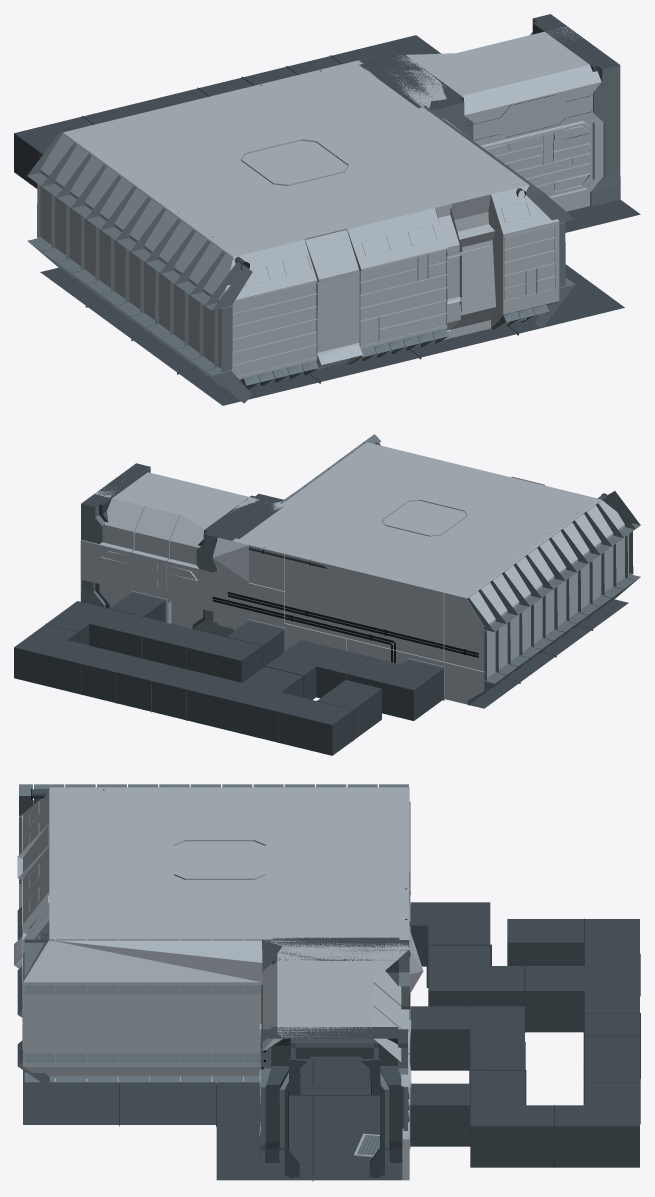
The picture shows the model from 3 angles, top to bottom: view 1: azimuth 30°, elevation 25°; view 2: azimuth 150°, elevation 25°; view 3: azimuth 270°, elevation 25°; orthographic projection. The views are drawn at different scales.
Visible parts, largest first — view 1: Plane.007, Main.001, Cube.079, ROOMKEY_1, ROOMKEY_1.001, ROOMKEY_1.002, Cube.172, Cube.173, Cube.158, Cube.171, Cube.101; view 2: Plane.007, Cube.079, ROOMKEY_1, Main.001, ROOMKEY_1.001, ROOMKEY_1.002, Cube.123; view 3: Plane.007, Cube.079, Main.001, ROOMKEY_1, ROOMKEY_1.001, ROOMKEY_1.002, Cube.158.
Part boxes in pixels (x1,y1,x2,y2): Plane.007: (40, 26, 603, 380); Main.001: (40, 199, 640, 405); Cube.079: (14, 35, 440, 188); ROOMKEY_1: (530, 14, 620, 206); ROOMKEY_1.001: (377, 51, 473, 140); ROOMKEY_1.002: (359, 56, 446, 119); Cube.172: (214, 306, 232, 372); Cube.173: (205, 262, 252, 310); Cube.158: (526, 181, 575, 223); Cube.171: (205, 368, 252, 403); Cube.101: (316, 344, 363, 369); Plane.007: (80, 442, 628, 704); Cube.079: (14, 592, 443, 755); ROOMKEY_1: (81, 463, 150, 608); Main.001: (468, 599, 628, 708); ROOMKEY_1.001: (192, 494, 272, 634); ROOMKEY_1.002: (217, 497, 283, 636); Cube.123: (467, 589, 505, 632); Plane.007: (23, 787, 423, 1180); Cube.079: (410, 902, 640, 1167); Main.001: (23, 1061, 402, 1181); ROOMKEY_1: (260, 1027, 407, 1180); ROOMKEY_1.001: (262, 949, 409, 1095); ROOMKEY_1.002: (262, 937, 410, 1090); Cube.158: (24, 939, 54, 994).
Bounding box in the file's own units: 10.26 × 2.61 × 10.08.
